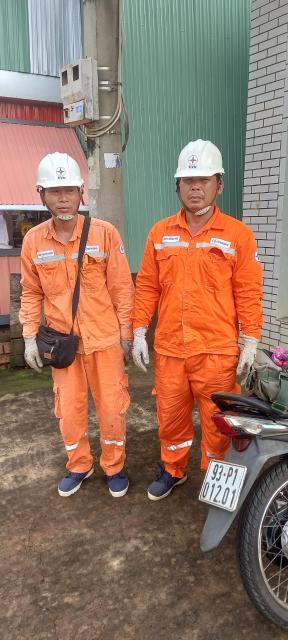gloves: (229, 330, 264, 383), (127, 329, 157, 376), (14, 329, 41, 376), (113, 329, 138, 364)
helmet: (172, 129, 231, 189), (27, 154, 92, 196)
shoes: (142, 461, 190, 511), (49, 464, 98, 504), (92, 467, 131, 508)
